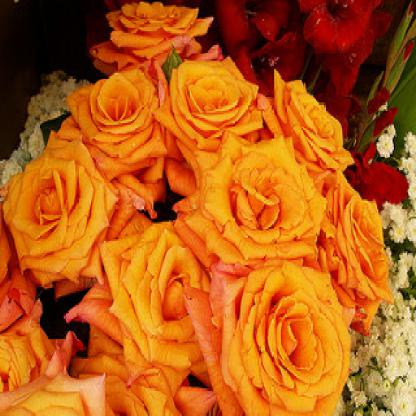ROSE-MAWAR: (2, 5, 395, 416)
